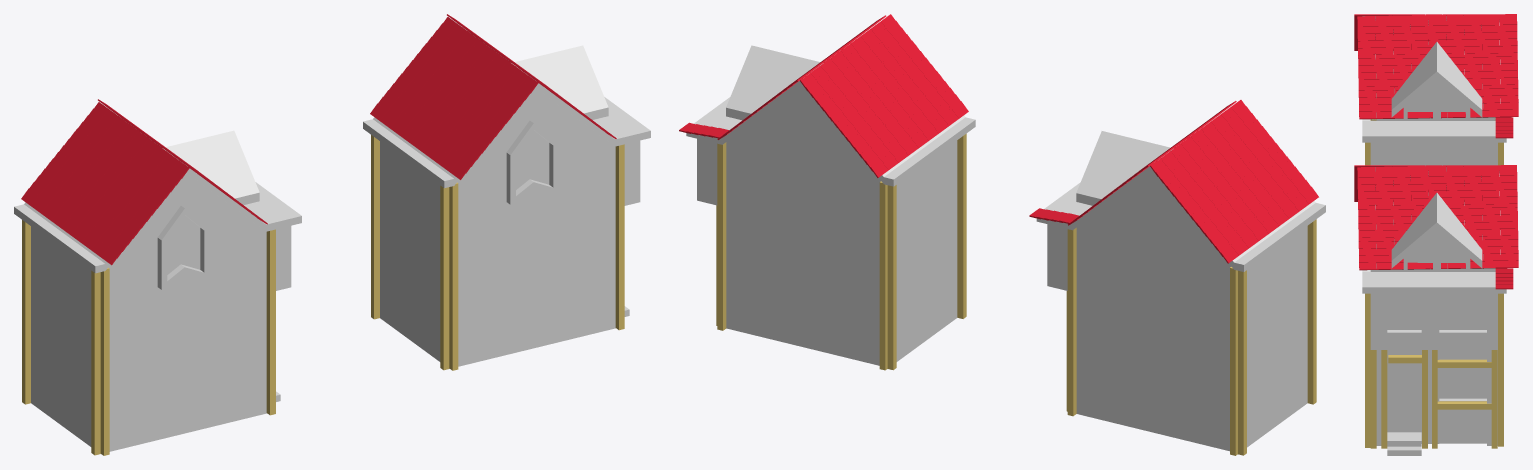
The model's file is House.dae.
3 renders of one model, left to right at view 1: azimuth 30°, elevation 25°; view 2: azimuth 150°, elevation 25°; view 3: azimuth 270°, elevation 25°, orthographic. The views are drawn at different scales.
Visible parts, largest first — view 1: Cube, Cube.018, Cube.034, Cube.027, Cube.028, Cube.032, Cube.031; view 2: Cube, Cube.018, Cube.034, Cube.029, Cube.031, Cube.032, Cube.030; view 3: Cube, Cube.018, Cube.035, Cube.028, Cube.029, Cube.023, Cube.020, Cube.019, Cube.022, Cube.021, Cube.026, Cube.025 (+3 smaller).
Boxes of the visible parts, <box> form: Cube: <box>14,99,301,455</box>; Cube.018: <box>363,45,650,368</box>; Cube.034: <box>370,17,538,179</box>; Cube.027: <box>449,182,458,370</box>; Cube.028: <box>615,144,624,330</box>; Cube.032: <box>440,185,449,370</box>; Cube.031: <box>371,135,379,319</box>; Cube: <box>1029,100,1325,455</box>; Cube.018: <box>686,45,975,365</box>; Cube.034: <box>800,14,968,177</box>; Cube.029: <box>717,142,726,330</box>; Cube.031: <box>887,185,896,370</box>; Cube.032: <box>957,133,966,318</box>; Cube.030: <box>879,181,887,370</box>; Cube: <box>1354,14,1518,165</box>; Cube.018: <box>1362,167,1506,455</box>; Cube.035: <box>1357,165,1518,270</box>; Cube.028: <box>1365,293,1370,447</box>; Cube.029: <box>1498,293,1503,446</box>; Cube.023: <box>1381,350,1387,448</box>; Cube.020: <box>1491,350,1497,448</box>; Cube.019: <box>1370,350,1376,448</box>; Cube.022: <box>1422,350,1427,448</box>; Cube.021: <box>1432,350,1437,448</box>; Cube.026: <box>1437,401,1491,409</box>; Cube.025: <box>1437,359,1491,367</box>.
Size of the model in its own units: 9.73 by 2.8 by 4.58.
